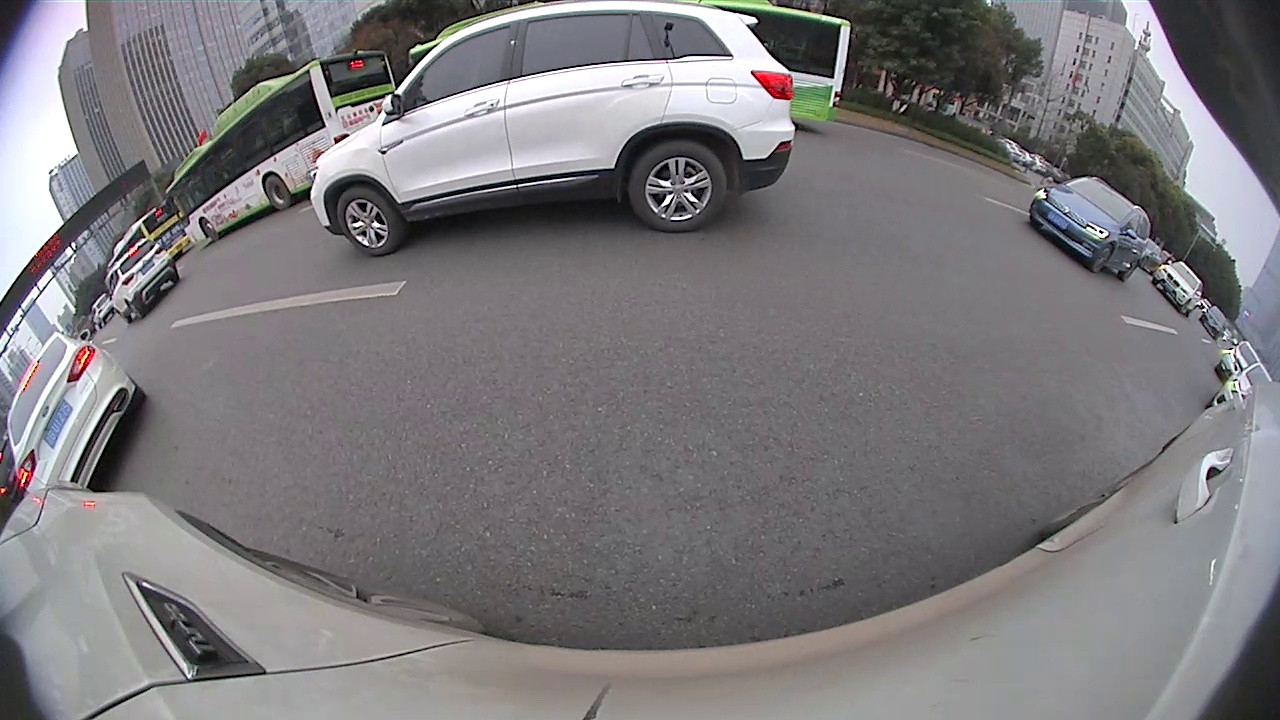bus: (407, 1, 849, 138), (161, 45, 399, 251)
car: (308, 1, 795, 260), (4, 333, 147, 501), (1026, 172, 1150, 281), (102, 233, 183, 326)
front: (332, 185, 397, 256), (1091, 243, 1113, 274), (200, 217, 220, 245)
rear: (627, 136, 730, 233), (263, 171, 293, 212)
